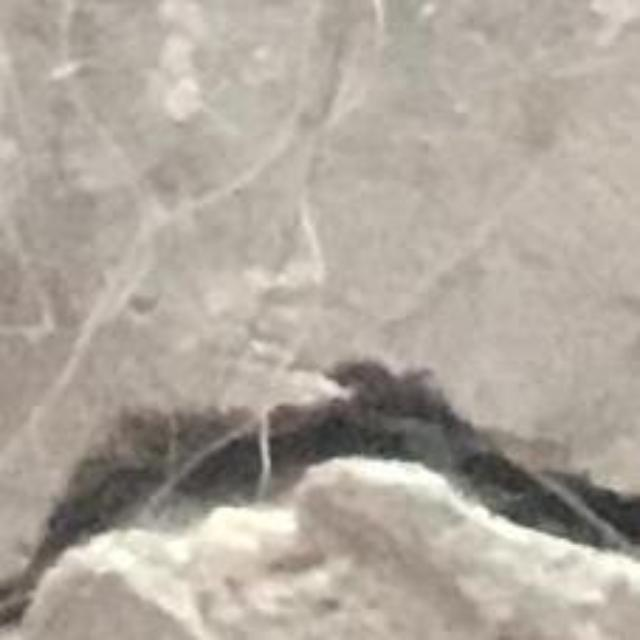crack: (0, 361, 639, 625)
